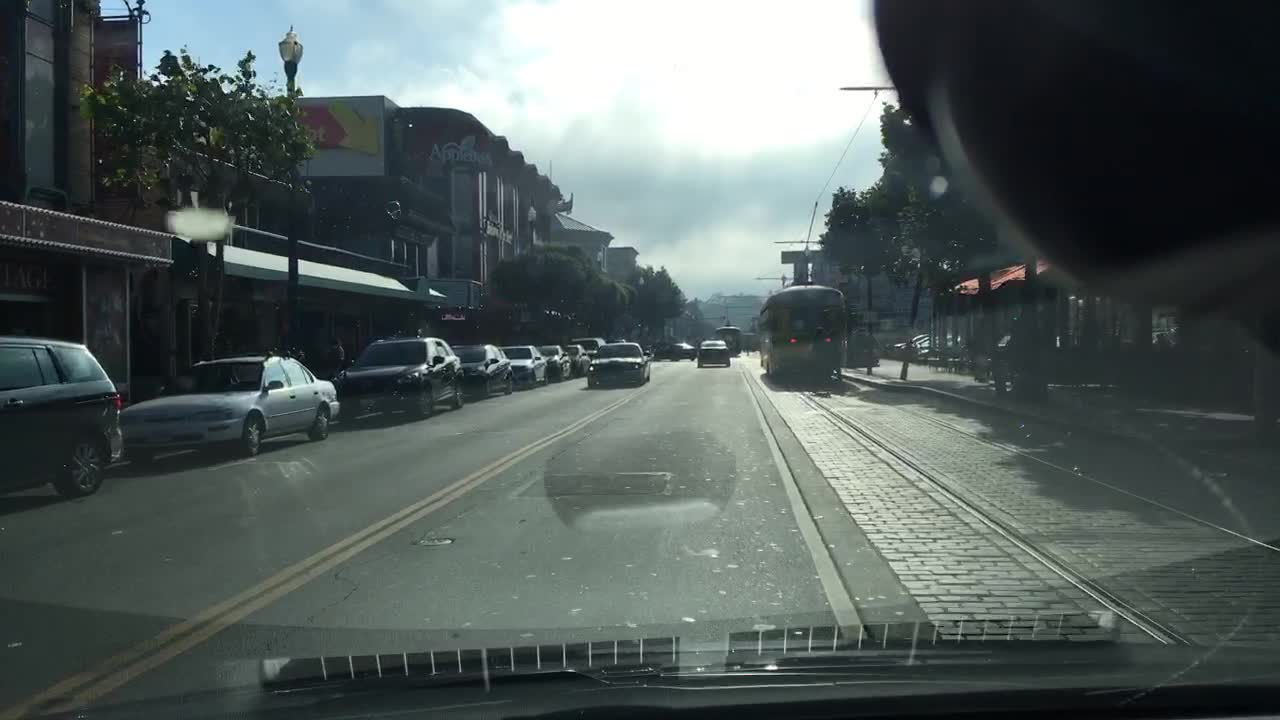car: (117, 349, 346, 474), (0, 330, 126, 508), (327, 332, 469, 420), (449, 340, 517, 398), (585, 338, 658, 390), (493, 340, 551, 390), (532, 341, 575, 380), (903, 331, 955, 357), (882, 330, 928, 359), (557, 340, 593, 377), (695, 336, 733, 367), (653, 338, 696, 361), (567, 332, 609, 354), (606, 333, 629, 346)
person: (822, 325, 846, 393), (325, 336, 349, 388), (809, 330, 825, 383)
train: (753, 282, 851, 383), (711, 324, 745, 353)
